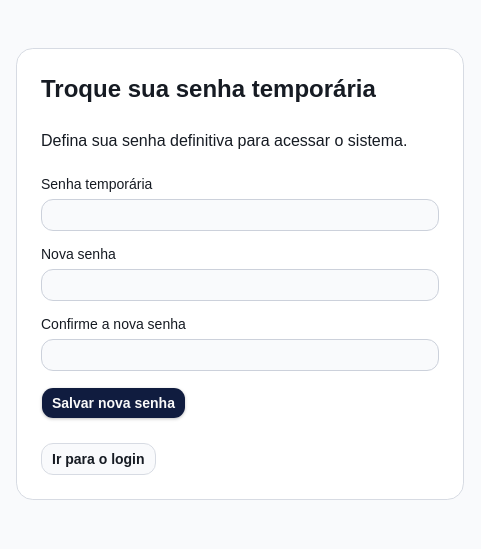
Test: senha inválida mantém restrição
The image size is (481, 549).
Type "temporaria" into the password field labelled "Senha temporária" at {"x": 240, "y": 215}, box [41,199,439,231]
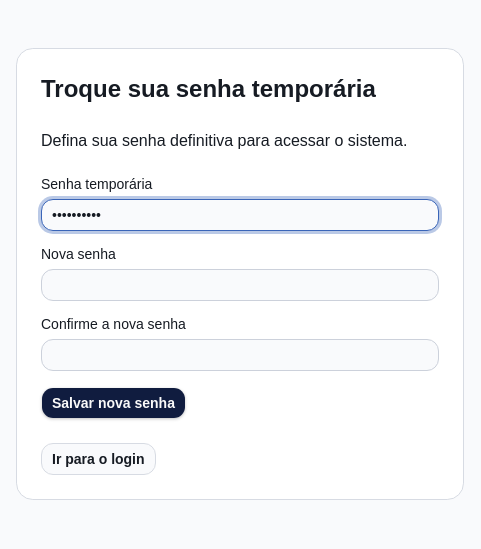
Type "definitiva123" into the password field labelled "Nova senha" at {"x": 240, "y": 285}, box [41,269,439,301]
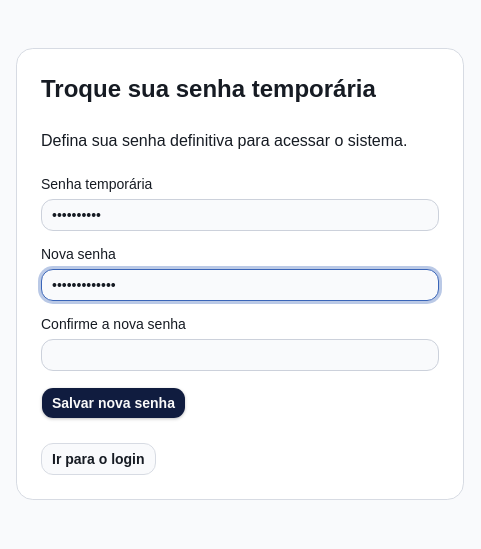
Type "definitiva123" into the password field labelled "Confirme a nova senha" at {"x": 240, "y": 355}, box [41,339,439,371]
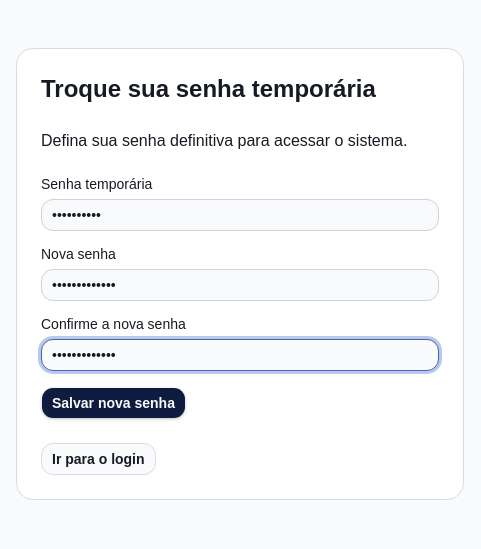
Click the button "Salvar nova senha" at {"x": 114, "y": 403}, box [41,387,186,419]
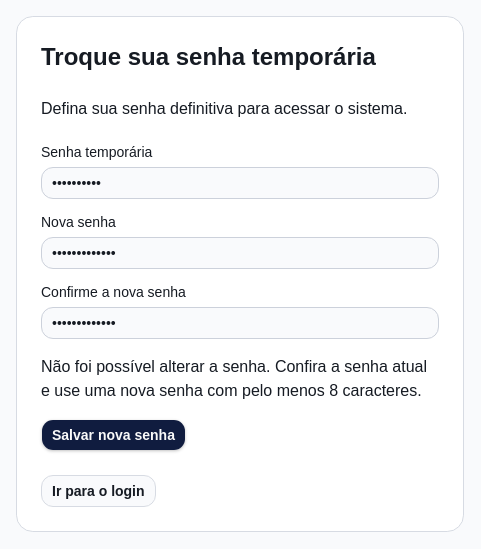
Expected: the message shows "Confira a senha atual", [41,358,427,399]
